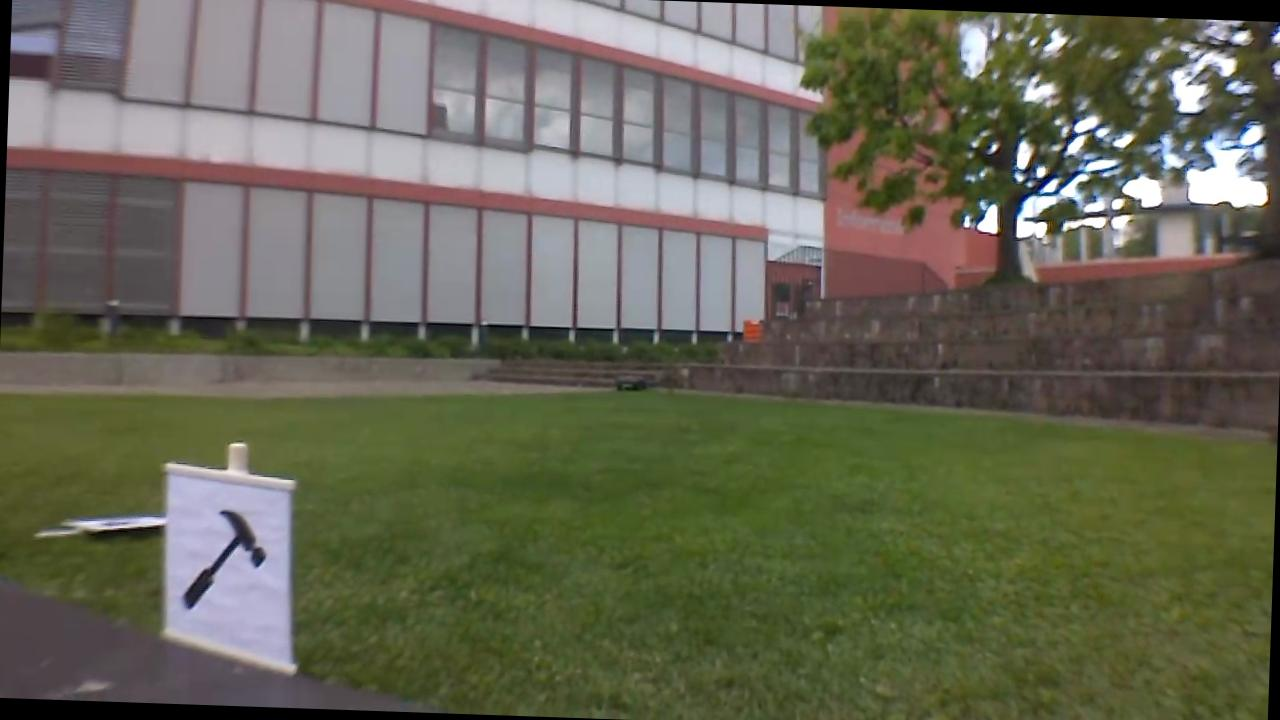hammer: (171, 493, 277, 622)
